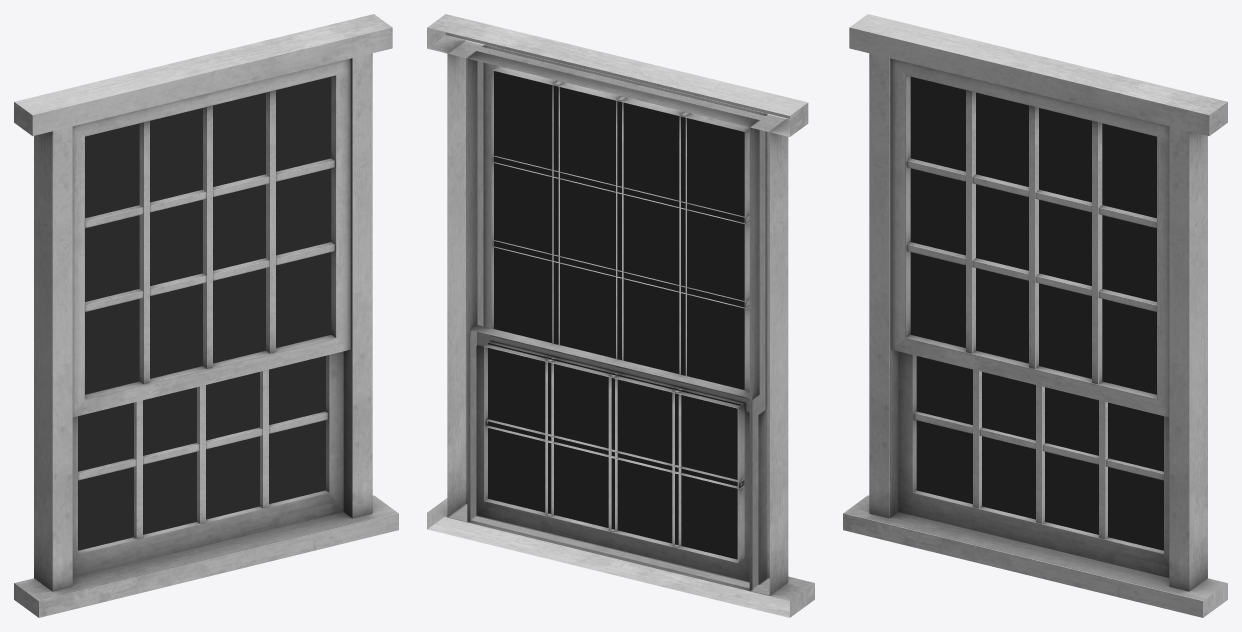
Rendered from Window_02_closed.FBX.
The picture shows the model from 3 angles, left to right: view 1: azimuth 30°, elevation 25°; view 2: azimuth 150°, elevation 25°; view 3: azimuth 330°, elevation 25°; orthographic projection.
Visible parts, largest first — view 1: WindowFrame_02_closed; view 2: WindowFrame_02_closed; view 3: WindowFrame_02_closed.
Boxes of the visible parts, x1,y1,x2,y2 form: WindowFrame_02_closed: (14,14,398,617); WindowFrame_02_closed: (427,14,814,617); WindowFrame_02_closed: (843,14,1227,617).
Bounding box in the file's own units: 90 × 119 × 10.74.
